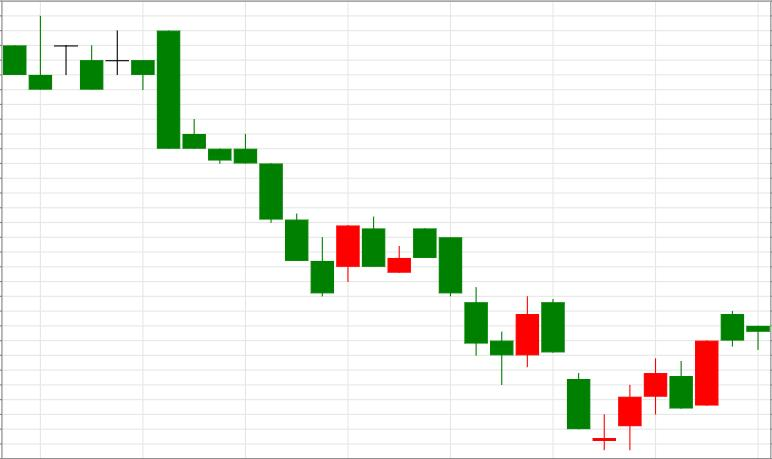morning_star_rise: (413, 228, 641, 451)
